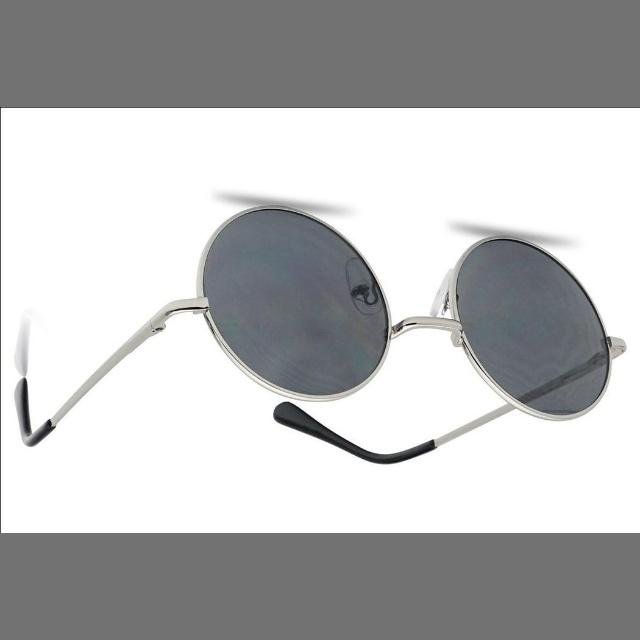Sunglasses: (0, 160, 640, 488)
